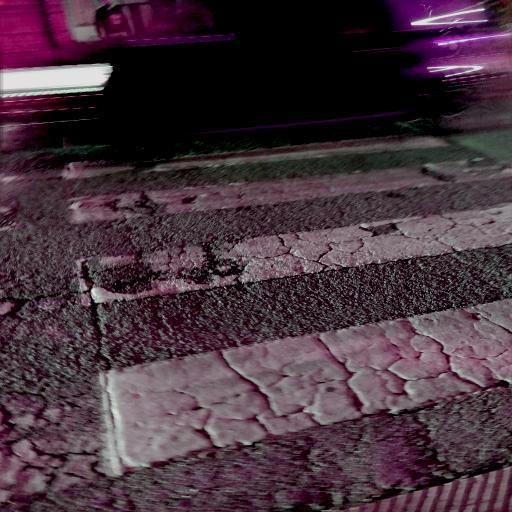crosswalk: (64, 151, 511, 312)
